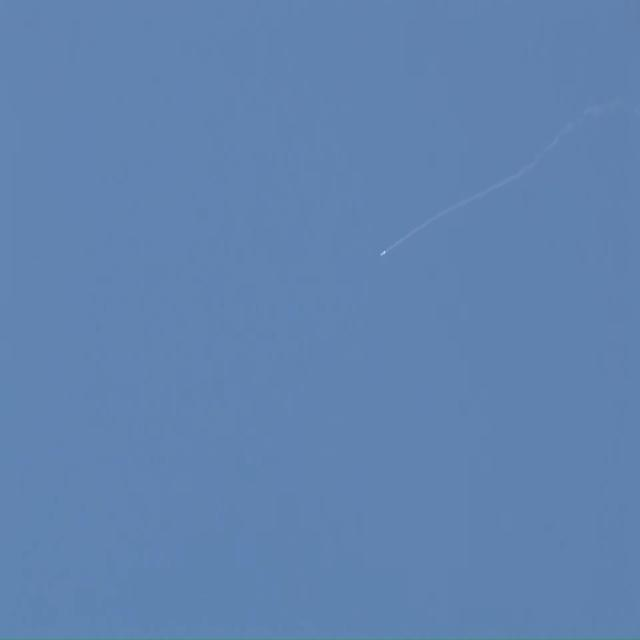Rocket: (381, 248, 386, 257)
